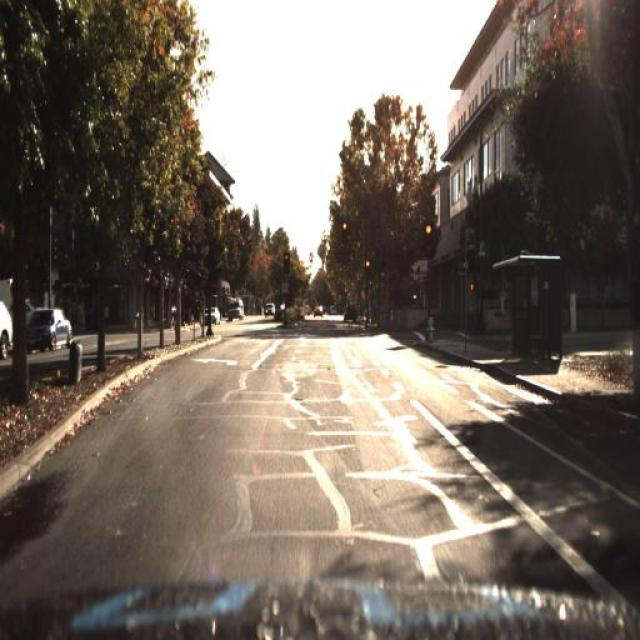car: (26, 302, 76, 357), (26, 303, 80, 353), (226, 297, 244, 322), (202, 306, 222, 328), (262, 297, 276, 325), (204, 306, 220, 325), (342, 305, 357, 325), (262, 299, 274, 321)
trafficLight-Green: (339, 214, 350, 240)
trafficLight-RedLeft: (424, 220, 434, 250), (280, 248, 290, 272), (363, 250, 372, 274)
trafficLight-Yellow: (281, 248, 294, 274)
trafficLight-YellowLeft: (422, 197, 437, 243), (362, 246, 371, 275)
